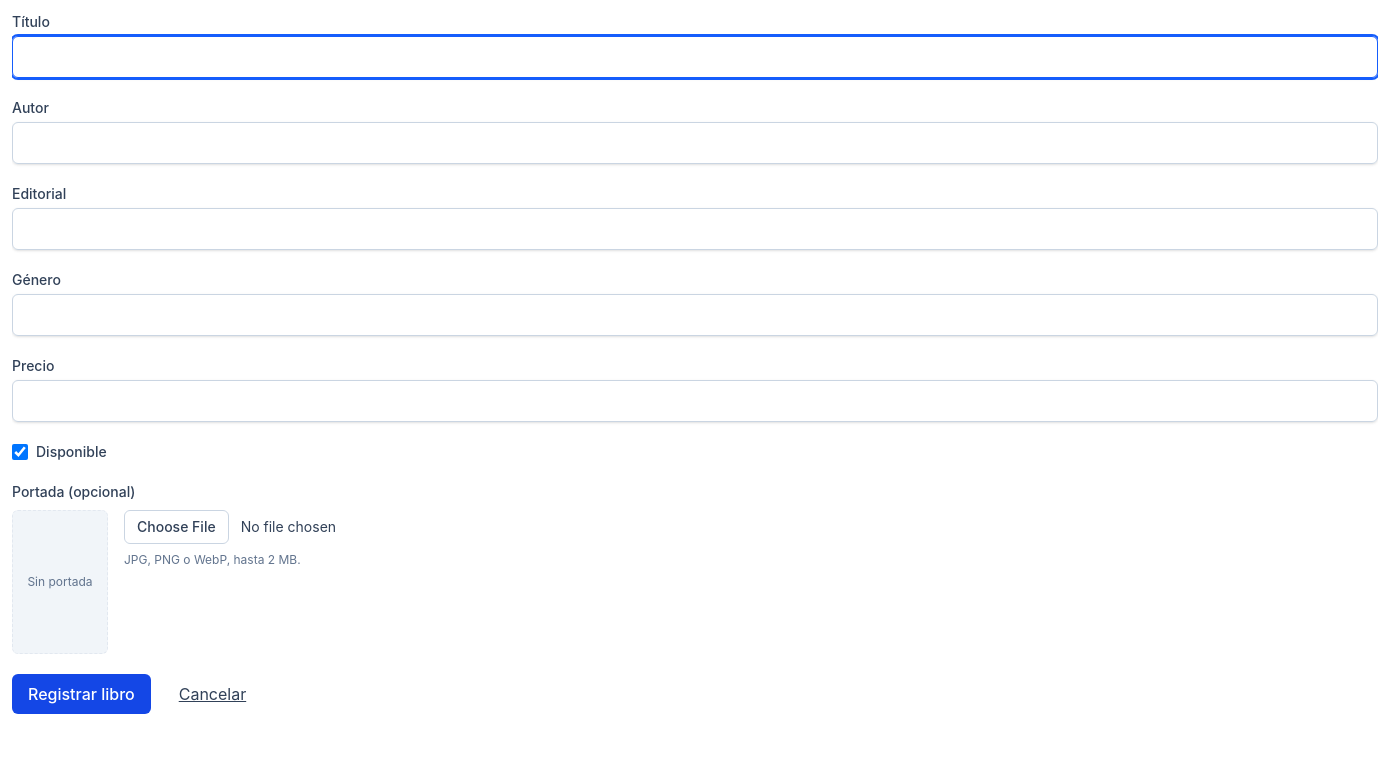
Test case: BookForm › validation › rejects the price -5 with one message
The width and height of the screenshot is (1390, 780).
Step 1. Type "Dune" into the field labelled "Título" → (695, 57), box x1=12 y1=36 x2=1378 y2=78
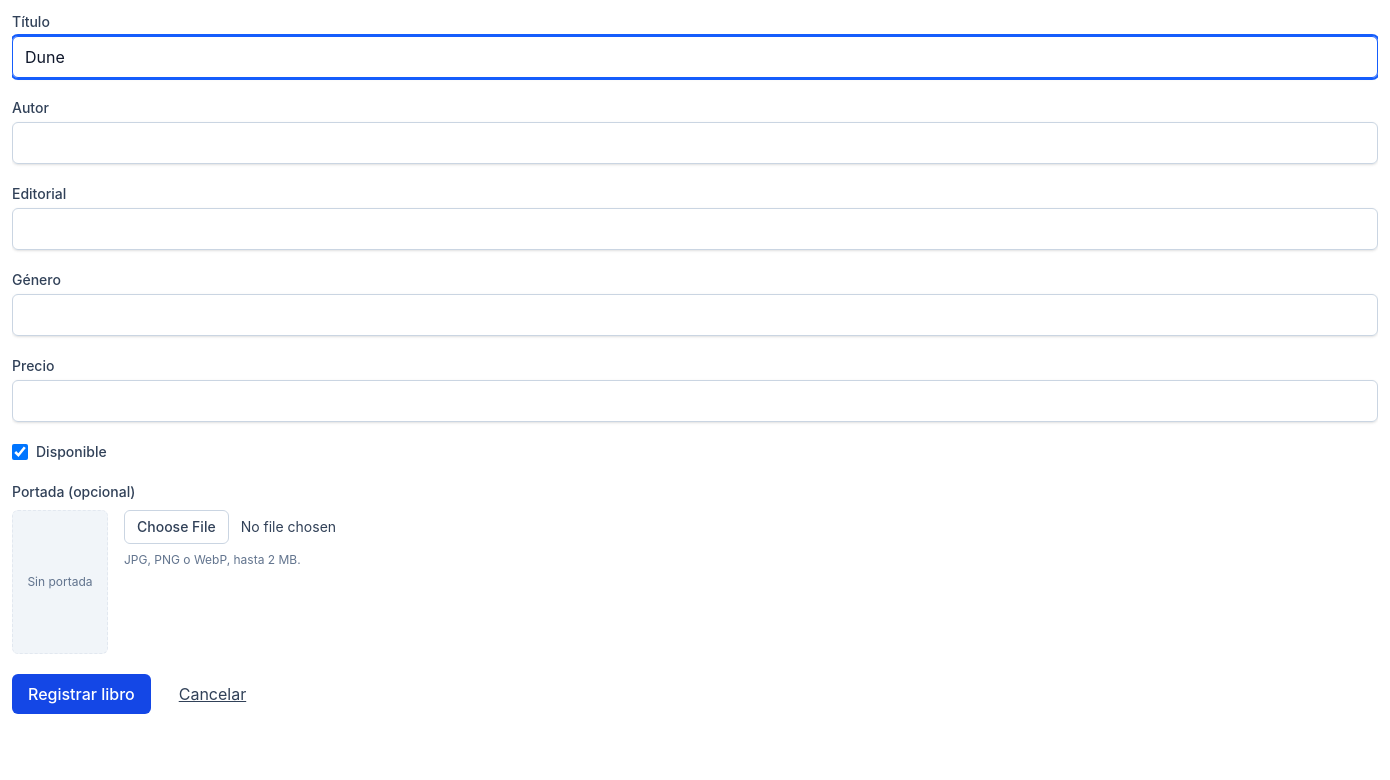
Step 2. Type "Frank Herbert" into the field labelled "Autor" → (695, 143), box x1=12 y1=122 x2=1378 y2=164
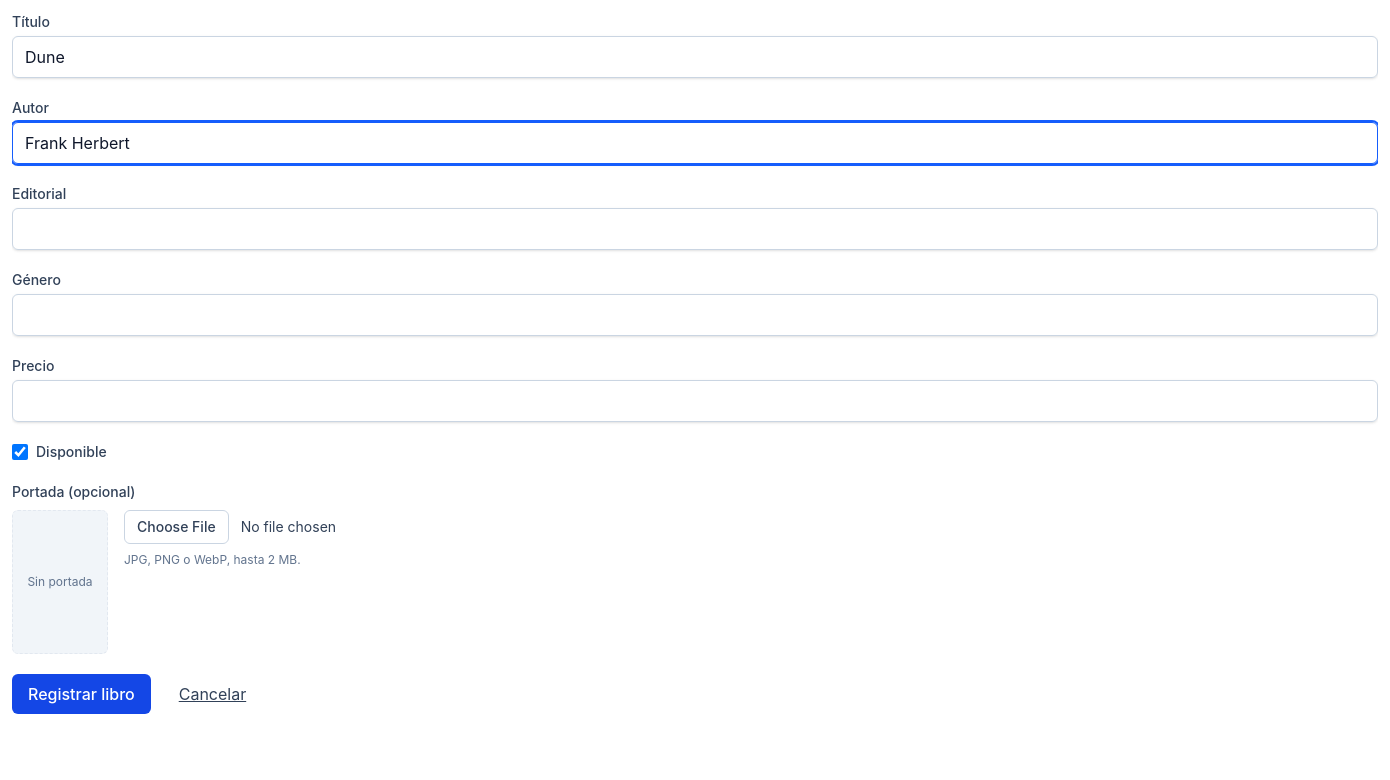
Step 3. Type "Ace" into the field labelled "Editorial" → (695, 229), box x1=12 y1=208 x2=1378 y2=250
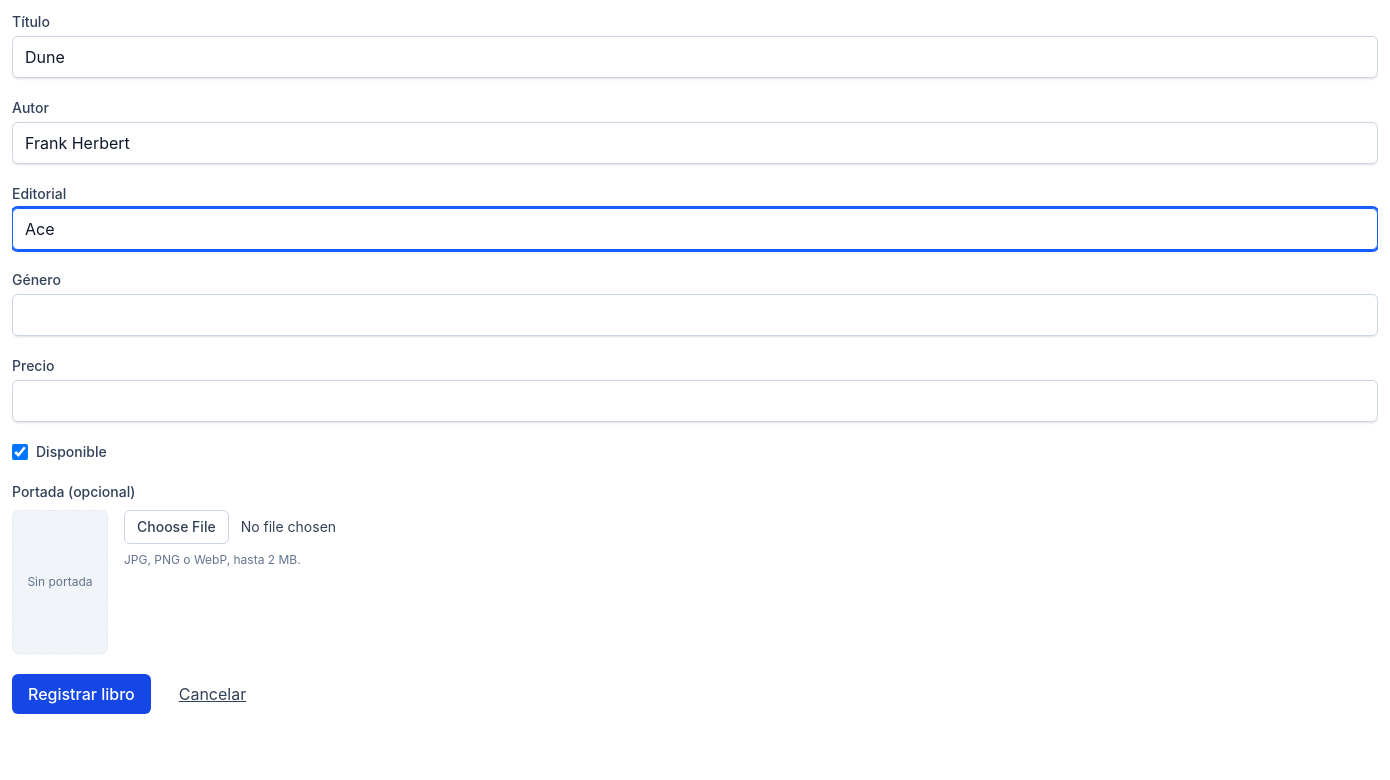
Step 4. Type "Ciencia ficción" into the field labelled "Género" → (695, 315), box x1=12 y1=294 x2=1378 y2=336
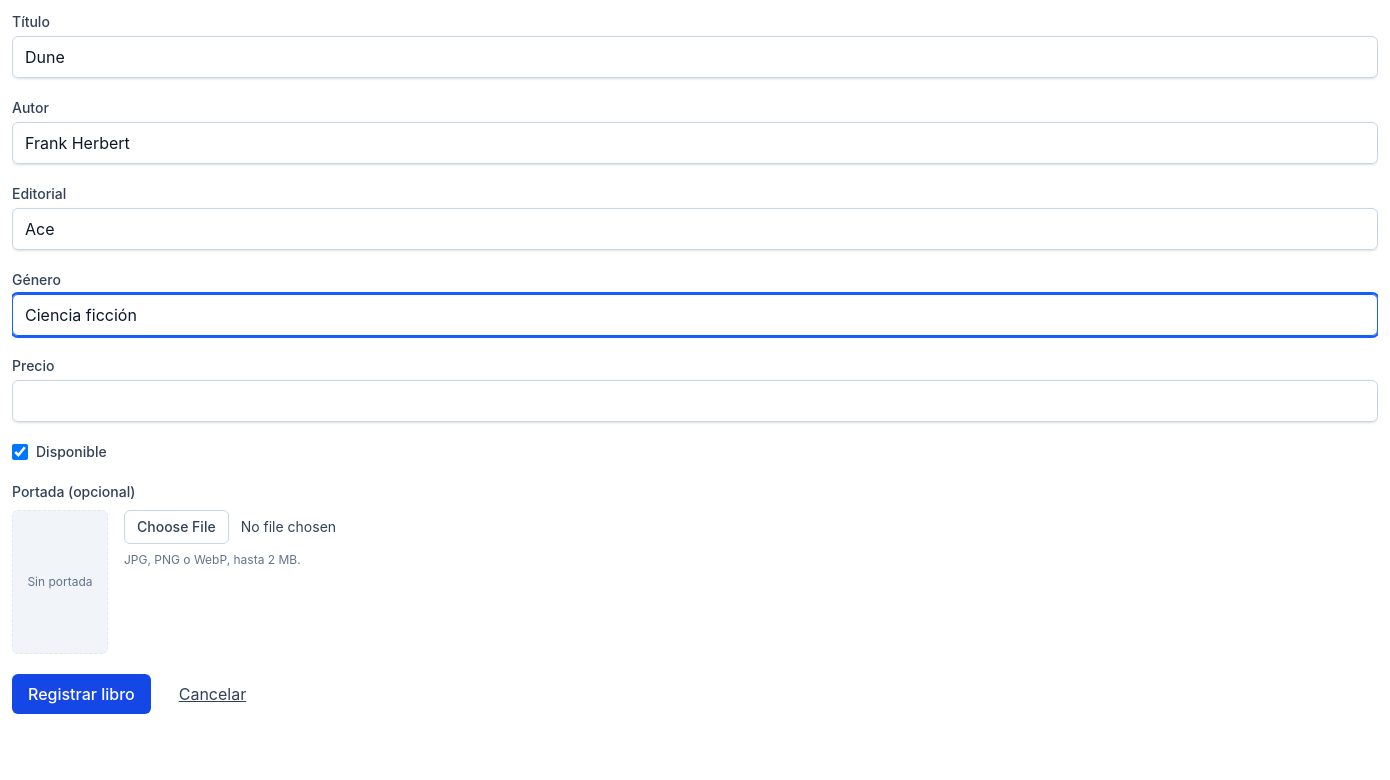
Step 5. Type "-5" into the number field labelled "Precio" → (695, 401), box x1=12 y1=380 x2=1378 y2=422
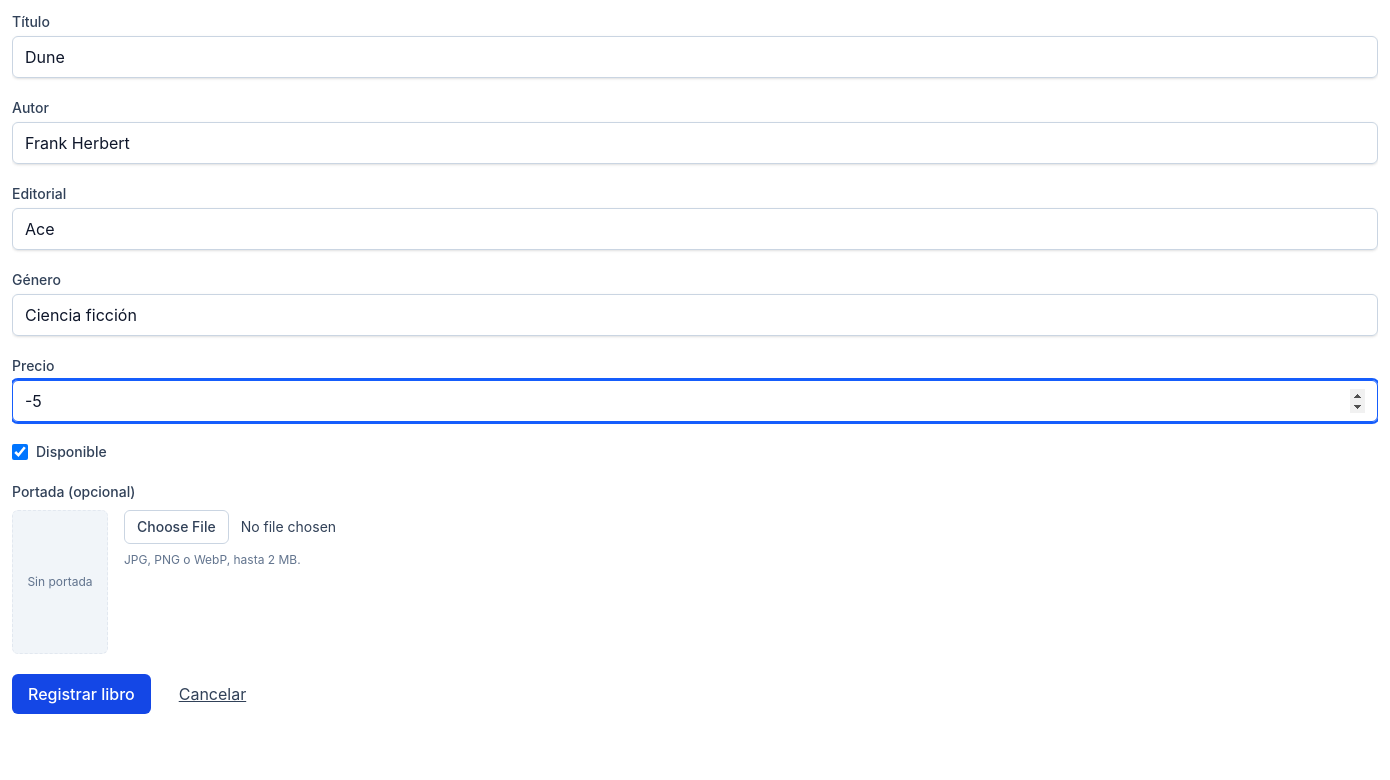
Step 6. Click the button "Registrar libro" → (81, 694), box x1=12 y1=674 x2=151 y2=714
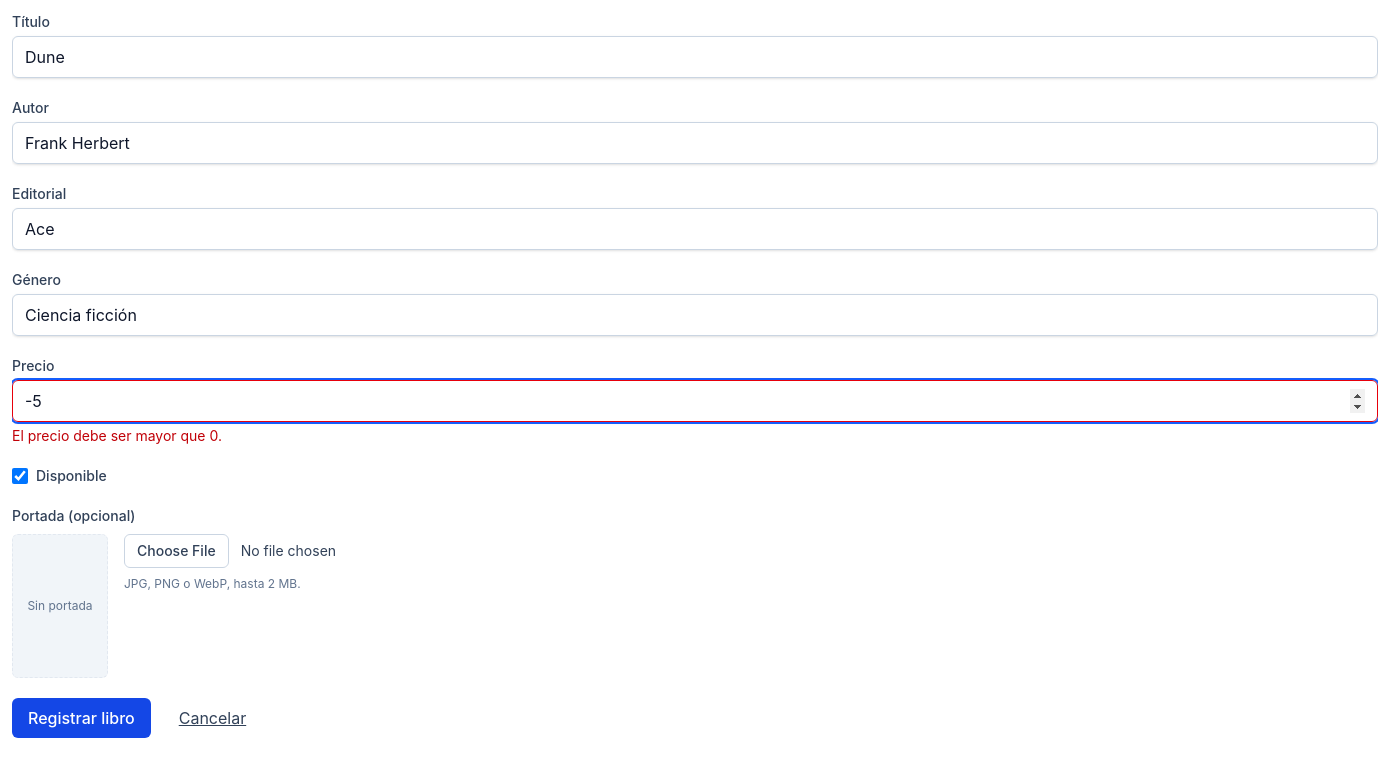
Expected: the text "El precio debe ser mayor que 0." is shown, x1=12 y1=427 x2=222 y2=444
